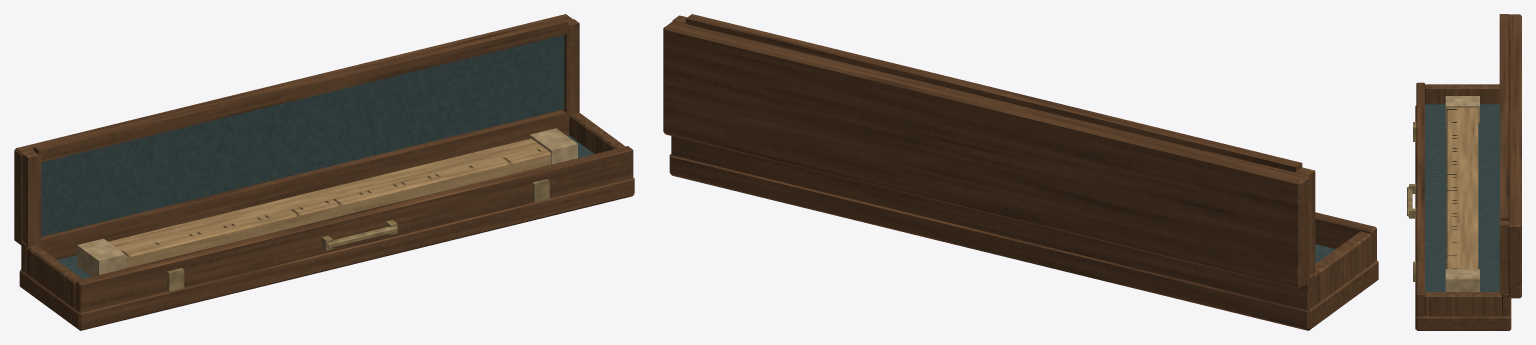
The model's file is EastGaugeCase_LOD0.fbx.
3 views of the same model, side by side, from view 1: azimuth 30°, elevation 25°; view 2: azimuth 150°, elevation 25°; view 3: azimuth 270°, elevation 25° (orthographic). The views are drawn at different scales.
Visible parts, largest first — view 1: EastGaugeCase; view 2: EastGaugeCase; view 3: EastGaugeCase.
Boxes of the visible parts, x1,y1,x2,y2 form: EastGaugeCase: [14, 14, 634, 330]; EastGaugeCase: [663, 14, 1378, 330]; EastGaugeCase: [1407, 14, 1521, 330].
Bounding box in the file's own units: 1.49 × 0.3546 × 0.3385.
Materials: 1 (1 with a texture image).
